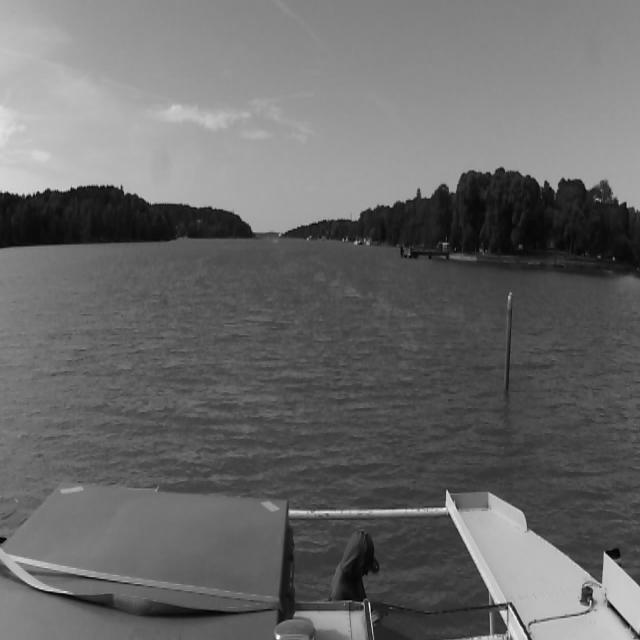buoy: (506, 293, 512, 394)
